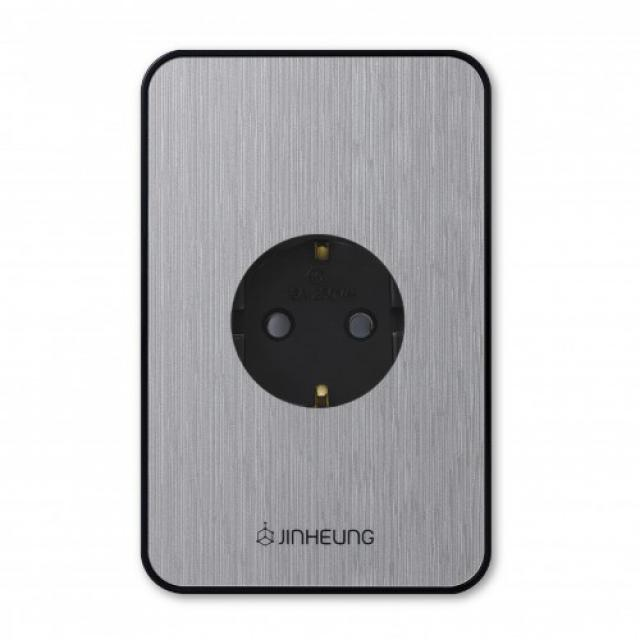typeb: (107, 36, 540, 604)
